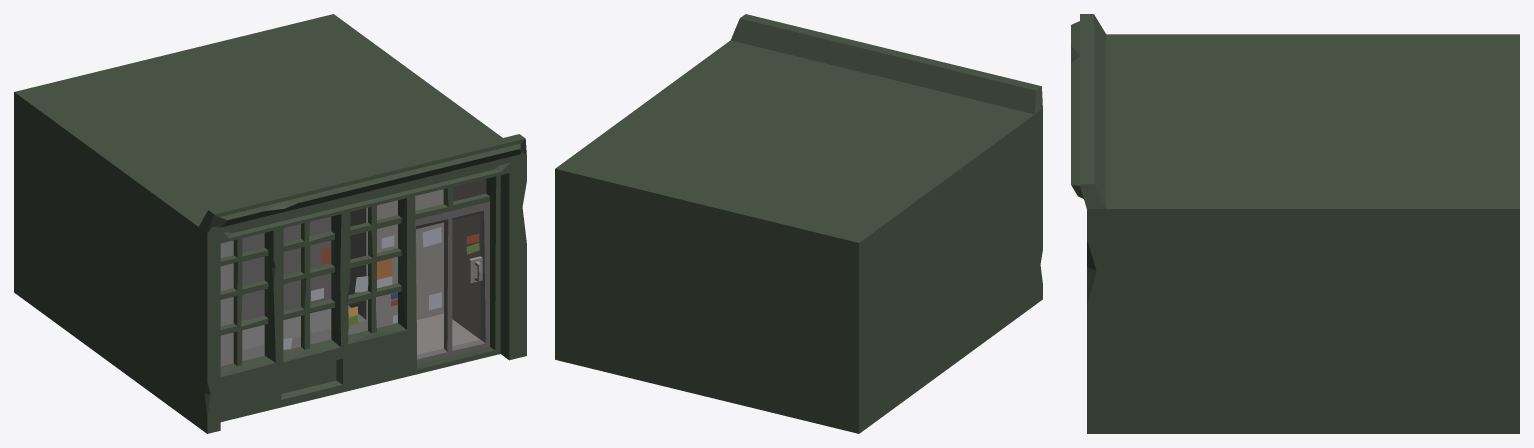
File: shop_02.glb
The picture shows the model from 3 angles, left to right: view 1: azimuth 30°, elevation 25°; view 2: azimuth 150°, elevation 25°; view 3: azimuth 270°, elevation 25°; orthographic projection. The views are drawn at different scales.
Parts seen in each view (by area): view 1: SM_Bld_Shop_02; view 2: SM_Bld_Shop_02; view 3: SM_Bld_Shop_02.
Part boxes in pixels (box(x1,y1,x2,y2)): SM_Bld_Shop_02: box(14, 14, 526, 433); SM_Bld_Shop_02: box(555, 14, 1042, 433); SM_Bld_Shop_02: box(1071, 14, 1519, 433).
Bounding box in the file's own units: 5 × 3.3 × 5.43.
Materials: 1 (1 with a texture image).
